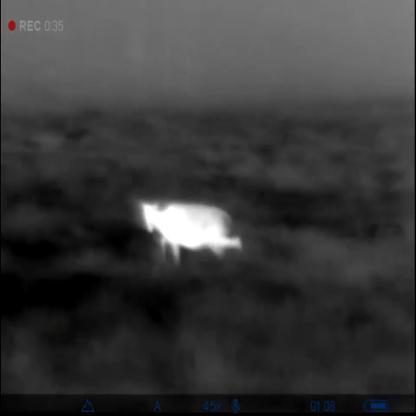rehkitze: (135, 195, 245, 265)
